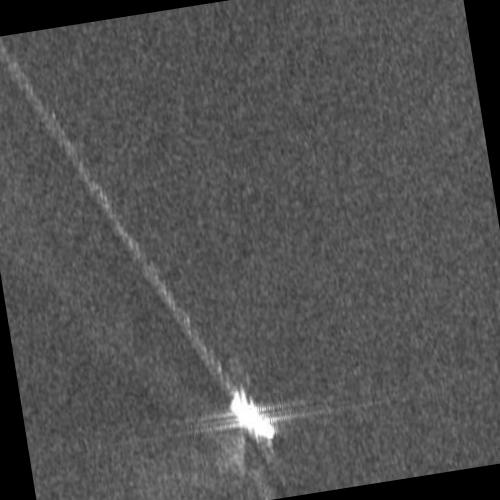ship: (229, 391, 277, 440)
